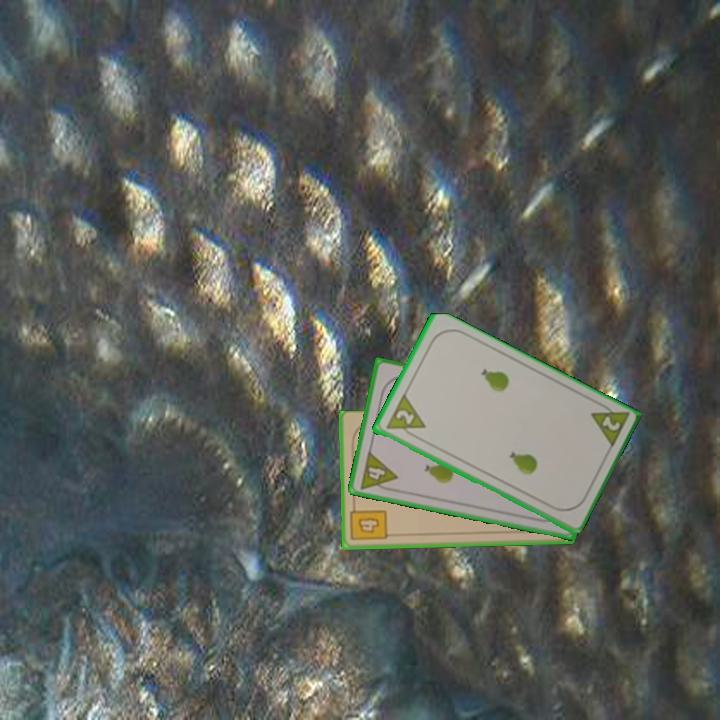2p: (586, 398, 632, 452), (382, 392, 428, 443)
4b: (347, 501, 390, 543)
4p: (356, 448, 400, 495)
